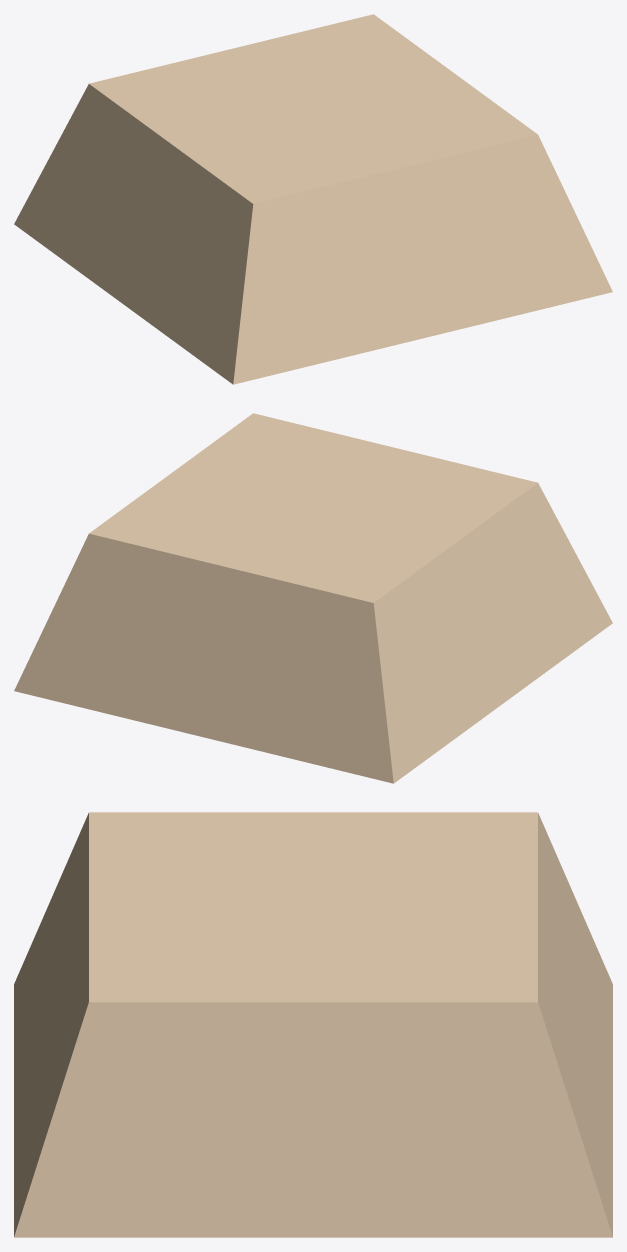
The model's file is temple_Stairs_Newel_Base.glb.
3 views of the same model, one above another, from view 1: azimuth 30°, elevation 25°; view 2: azimuth 150°, elevation 25°; view 3: azimuth 270°, elevation 25° (orthographic). The views are drawn at different scales.
Parts seen in each view (by area): view 1: object1; view 2: object1; view 3: object1.
Boxes of the visible parts, box(x1,y1,x2,y2) form: object1: box(14, 14, 612, 384); object1: box(14, 413, 612, 783); object1: box(14, 812, 612, 1237).
Bounding box in the file's own units: 0.4 × 0.15 × 0.4.
